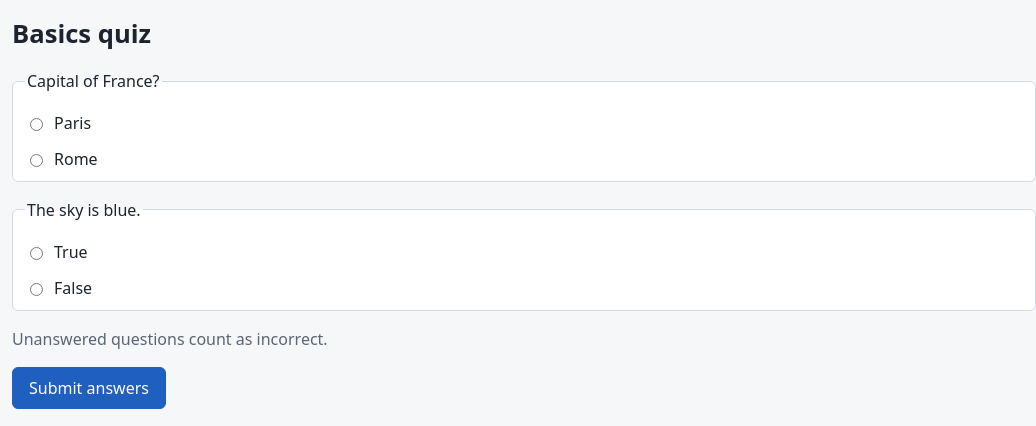
Test: QuizPage › shows the score, the best score, and every attempt
Click the radio button labelled "Paris" at (36, 124), box [30,118,43,131]
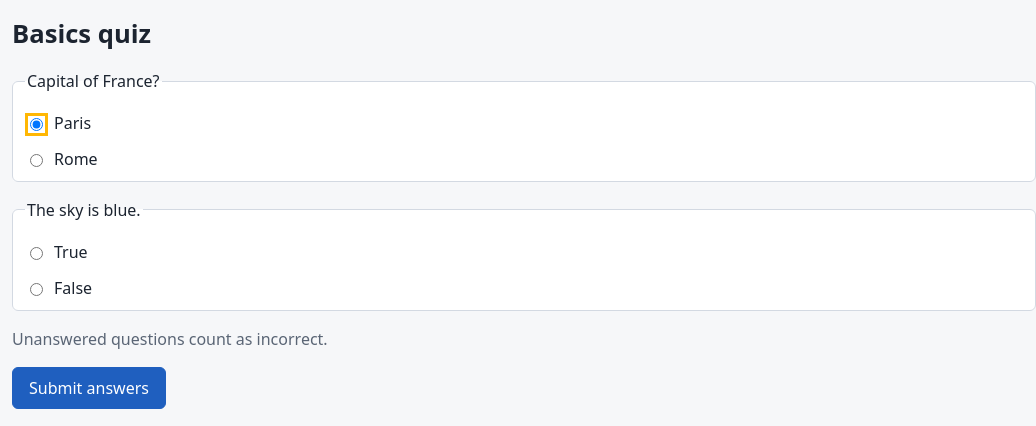
Click the radio button labelled "True" at (36, 253), box [30,247,43,260]
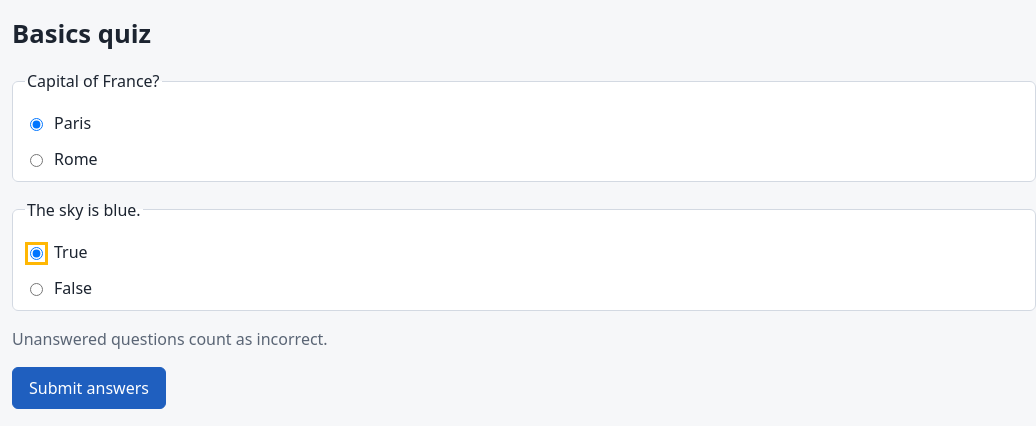
Click the button "Submit answers" at (89, 388), box [12,367,166,409]
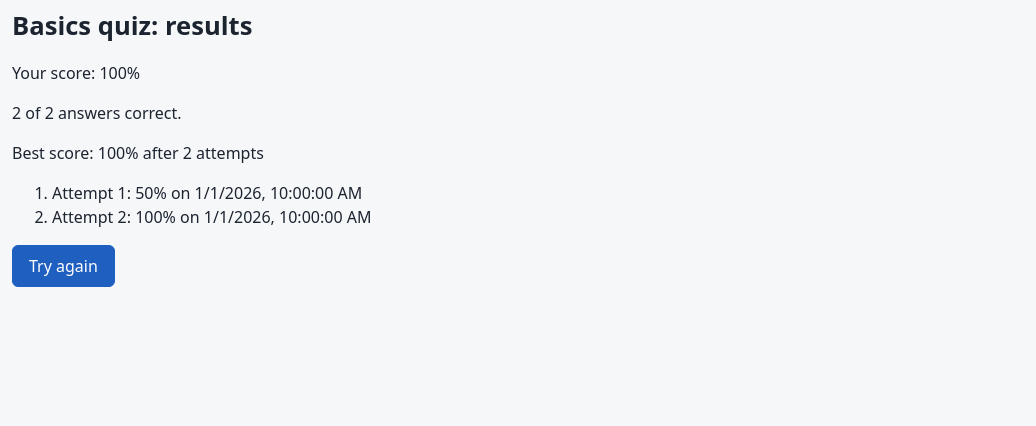
Check: the text "Your score: 100%" is shown, box [12,62,140,84]
Check: the text "Best score: 100% after 2 attempts" is shown, box [12,142,264,164]
Check: the number of list items is 2, box [52,182,362,204]; [52,206,371,228]
